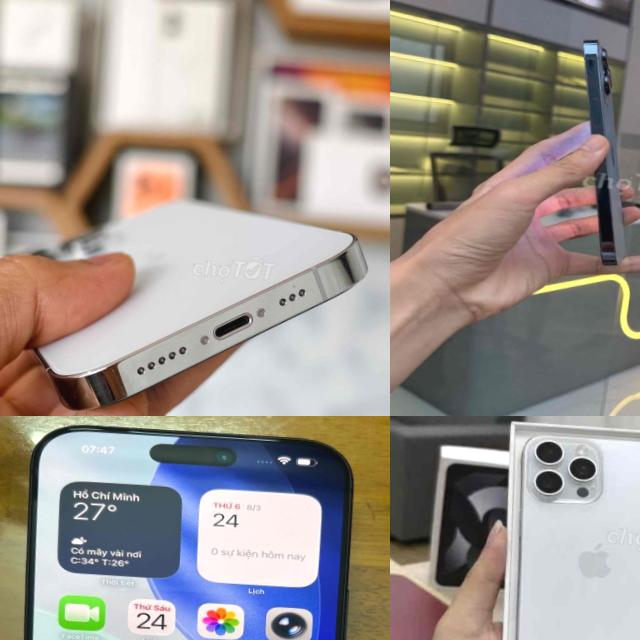gen_12_13: (560, 25, 640, 269)
gen_14: (7, 184, 375, 416)
gen_15: (492, 416, 640, 640)
gen_17: (24, 421, 354, 640)
